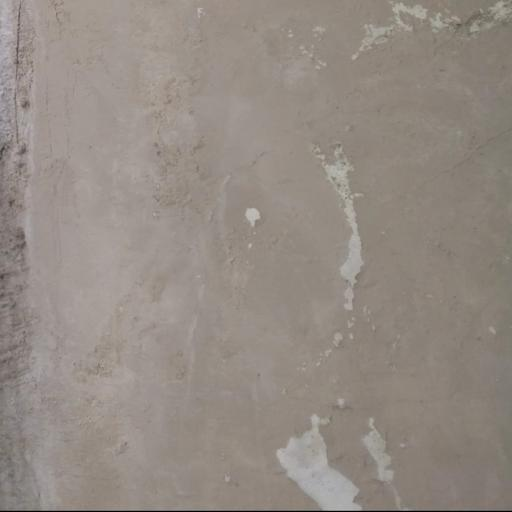stain: (235, 127, 417, 512)
